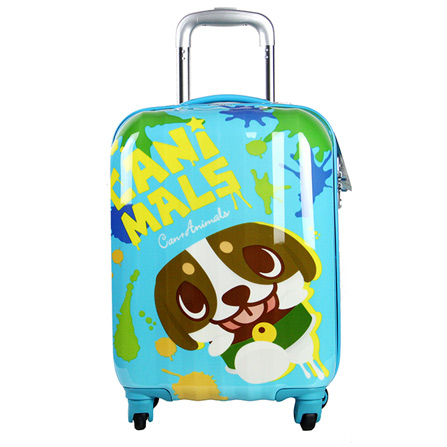suitcase: (108, 6, 353, 432)
